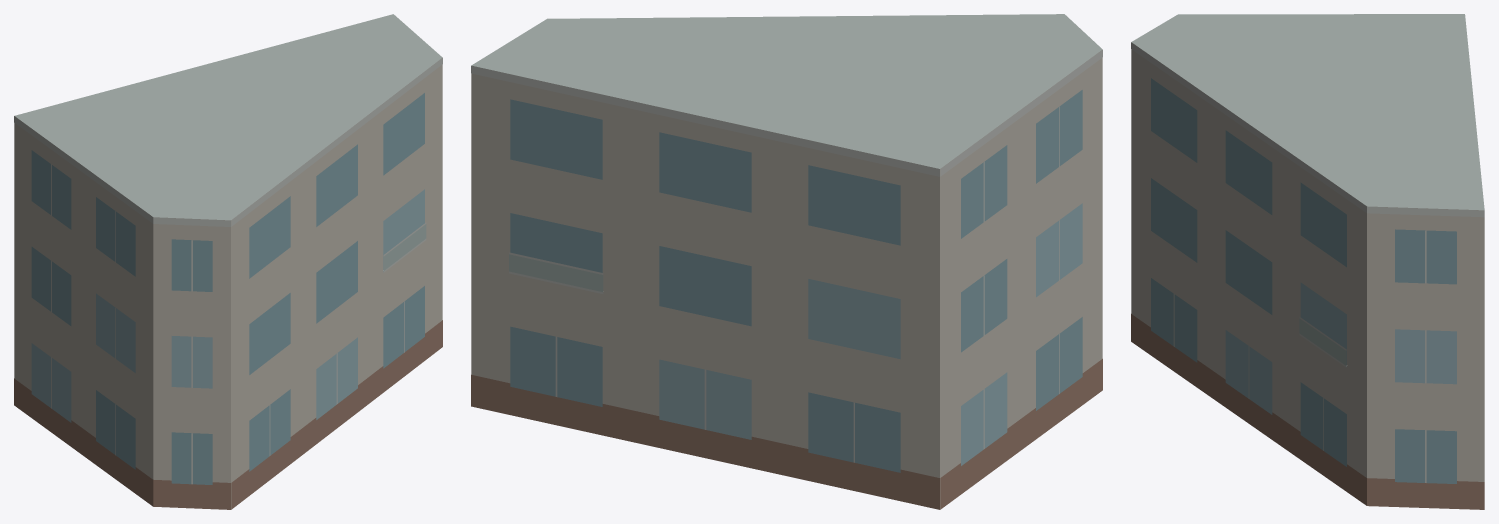
File: survey-upis-32702938.glb
3 views of the same model, side by side, from view 1: azimuth 30°, elevation 25°; view 2: azimuth 150°, elevation 25°; view 3: azimuth 270°, elevation 25° (orthographic). The views are drawn at different scales.
Visible parts, largest first — view 1: survey-upis-32702938.tmp; view 2: survey-upis-32702938.tmp; view 3: survey-upis-32702938.tmp.
Part boxes in pixels (x1=…): survey-upis-32702938.tmp: x1=14, y1=14, x2=442, y2=509; survey-upis-32702938.tmp: x1=471, y1=14, x2=1102, y2=509; survey-upis-32702938.tmp: x1=1131, y1=14, x2=1484, y2=509.
Bounding box in the file's own units: 14.77 × 10.5 × 11.24.
